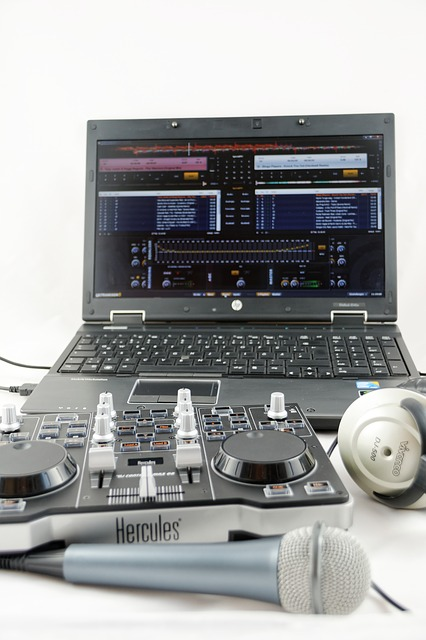headphones: (339, 379, 426, 509)
